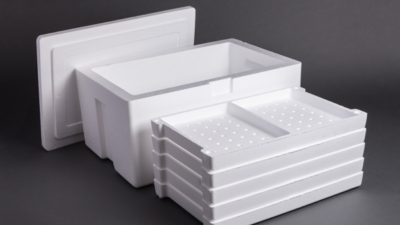Foam Box: (30, 3, 372, 225)
